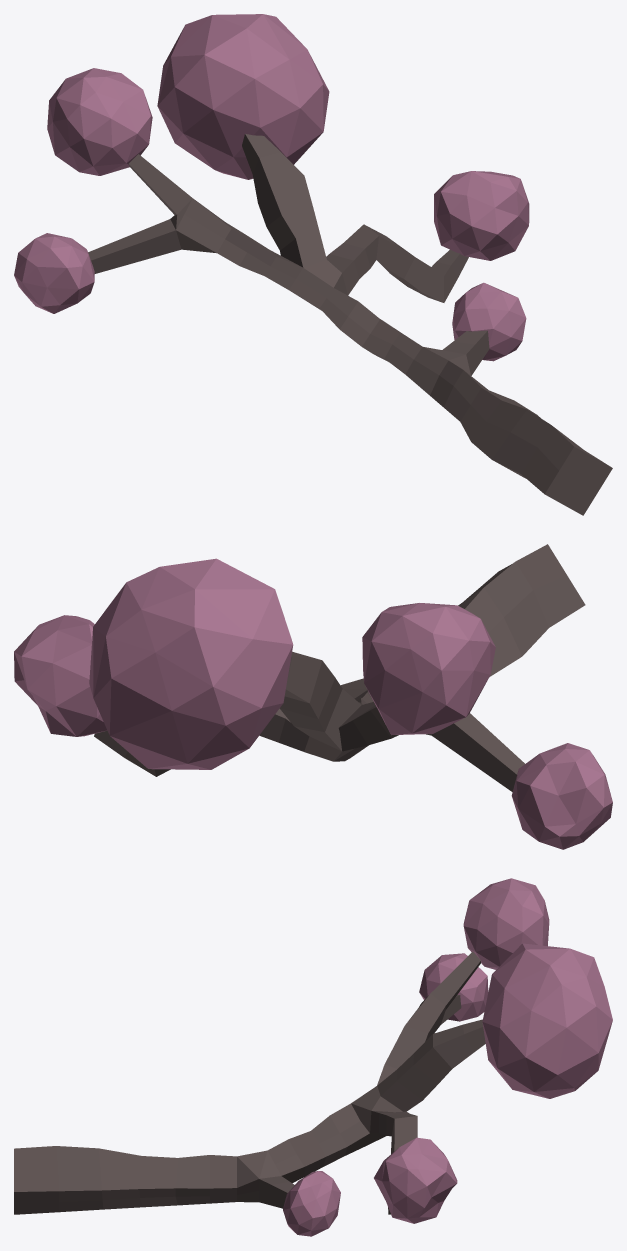
The model's file is tree2_terrain1.fbx.
3 renders of one model, top to bottom at view 1: azimuth 30°, elevation 25°; view 2: azimuth 150°, elevation 25°; view 3: azimuth 270°, elevation 25°, orthographic. The views are drawn at different scales.
Visible parts, largest first — view 1: Icosphere.002; view 2: Icosphere.002; view 3: Icosphere.002.
Part boxes in pixels (x1,y1,x2,y2): Icosphere.002: [14, 14, 612, 515]; Icosphere.002: [14, 544, 612, 849]; Icosphere.002: [14, 878, 612, 1236].
Bounding box in the file's own units: 24887 × 13908 × 30580.
